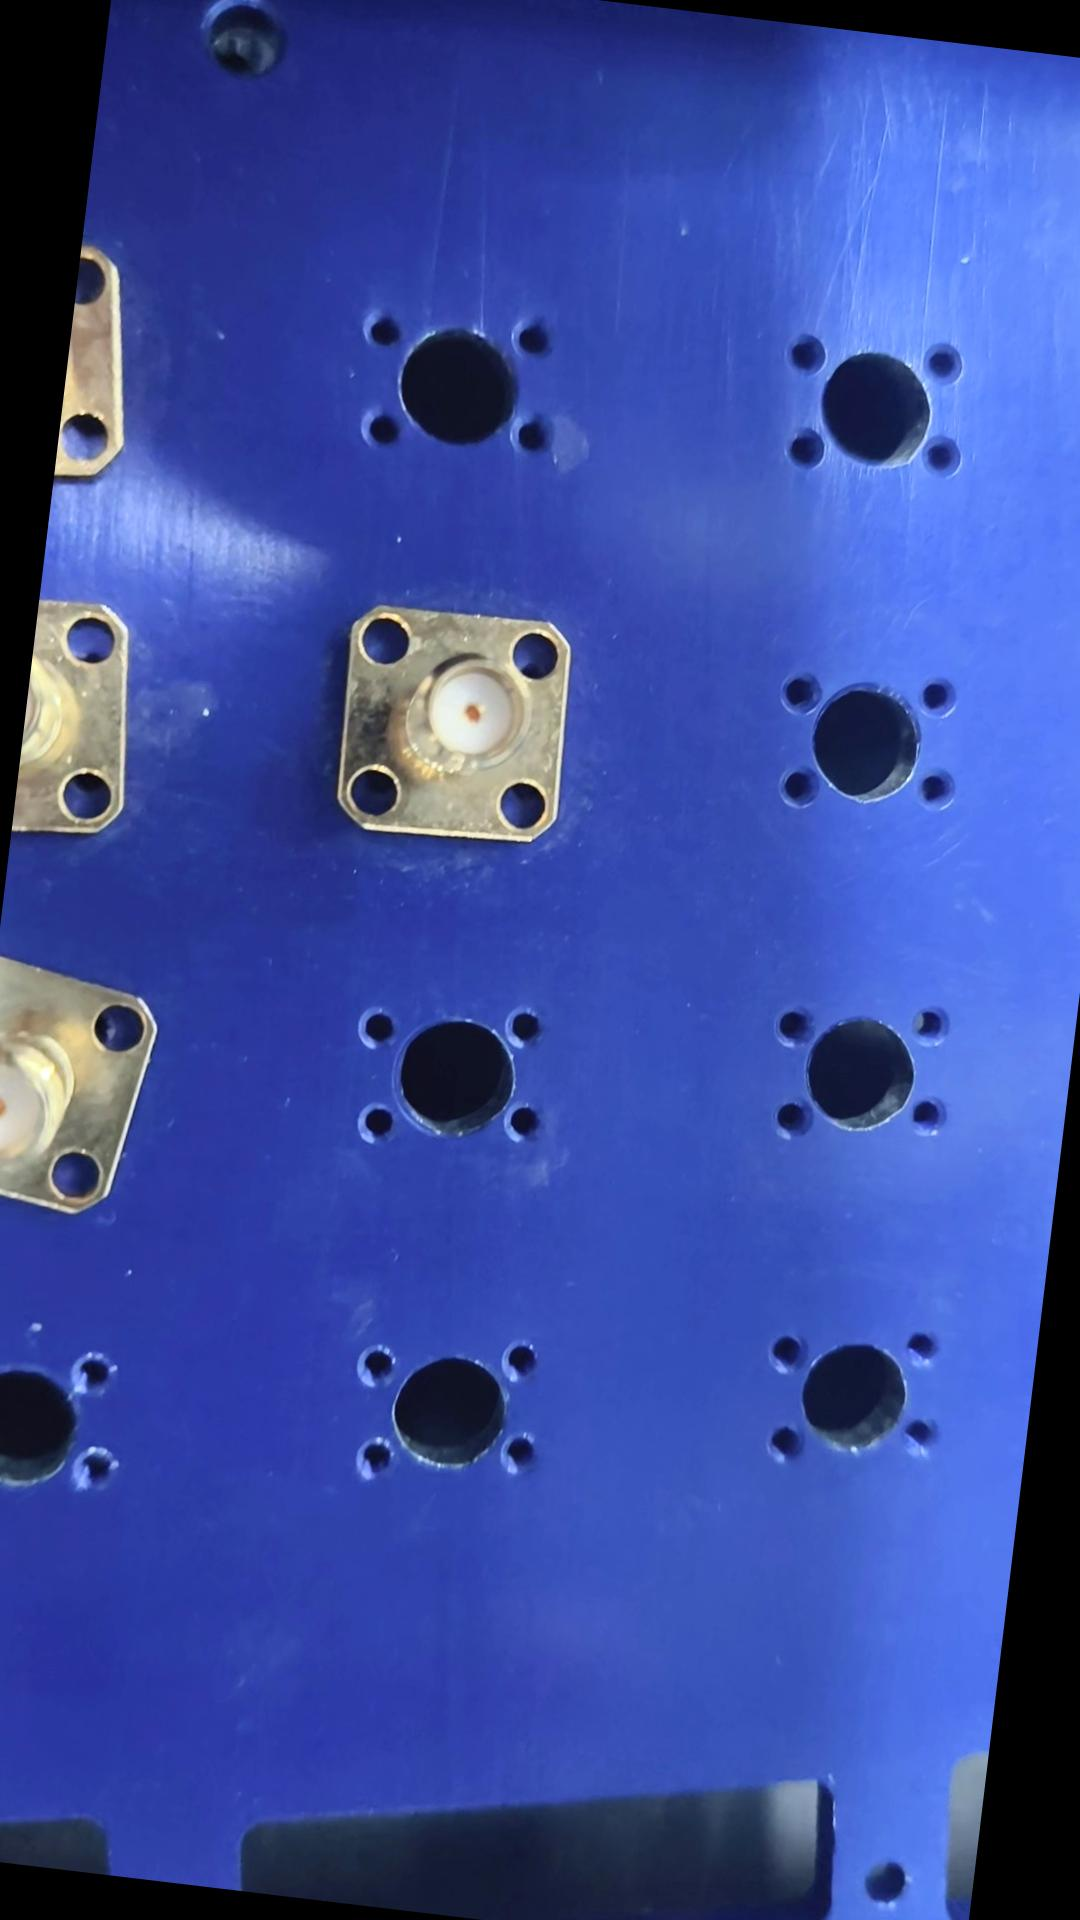SMA: (320, 600, 585, 855)
